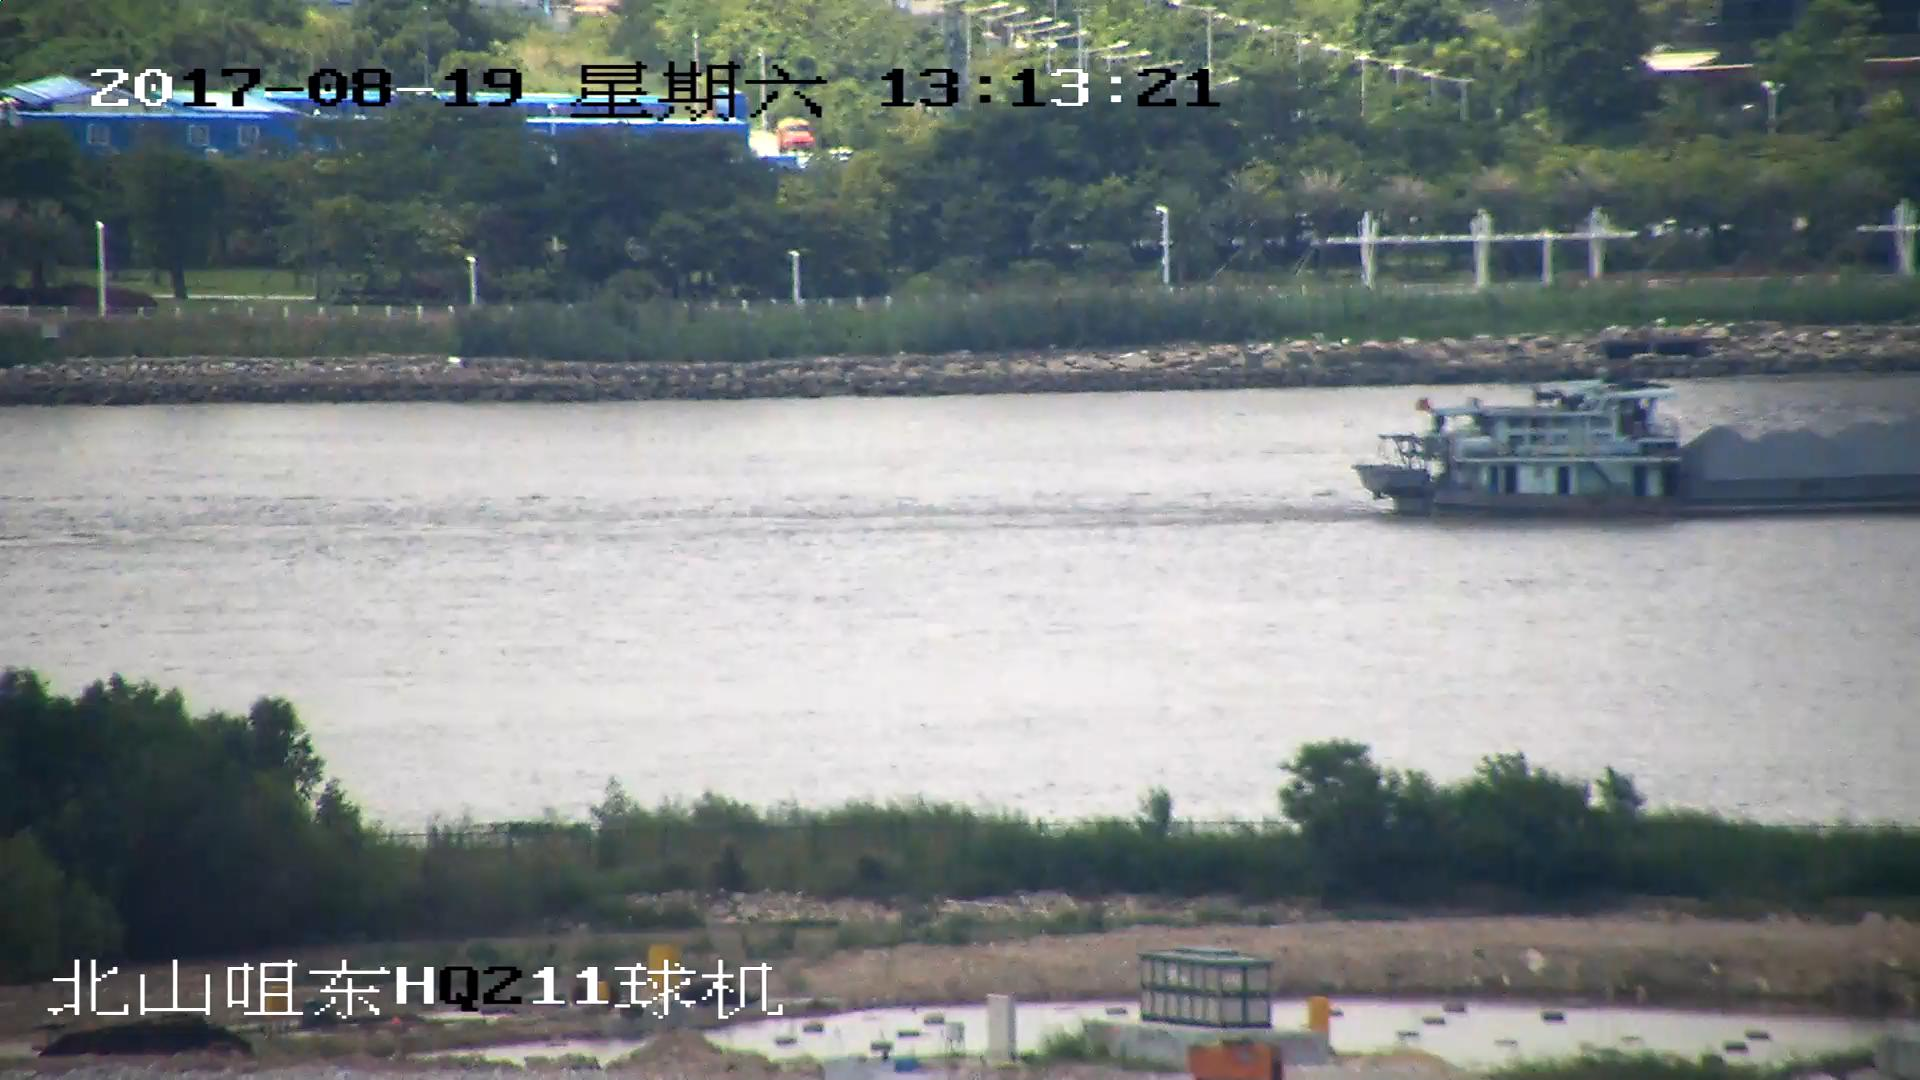ore carrier: (1354, 375, 1920, 523)
